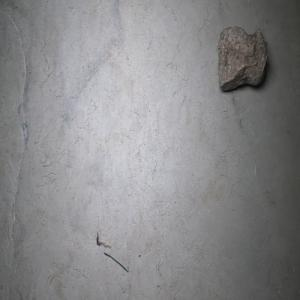Rock: (216, 26, 268, 91)
